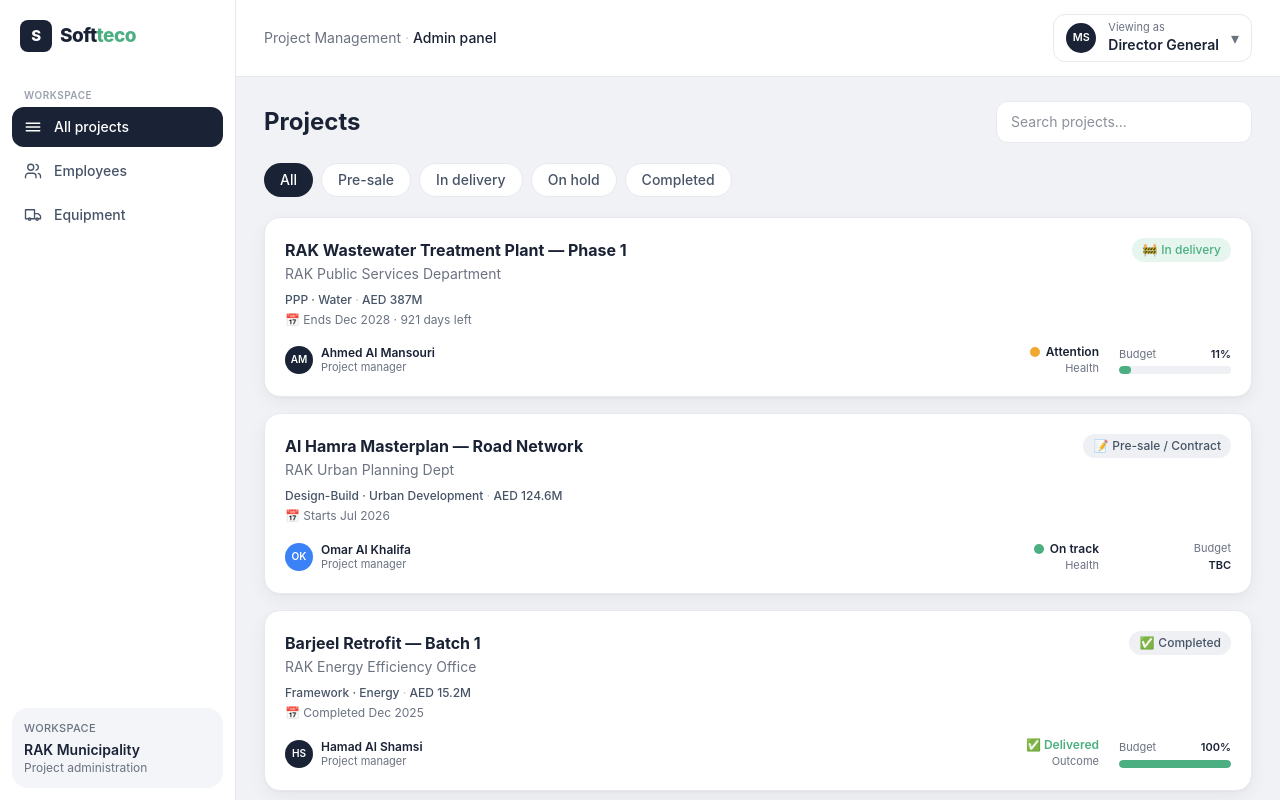
Scenario: projects list › filtering by status narrows the list
Click the button "Completed" at x=678, y=180, box [625, 163, 732, 197]
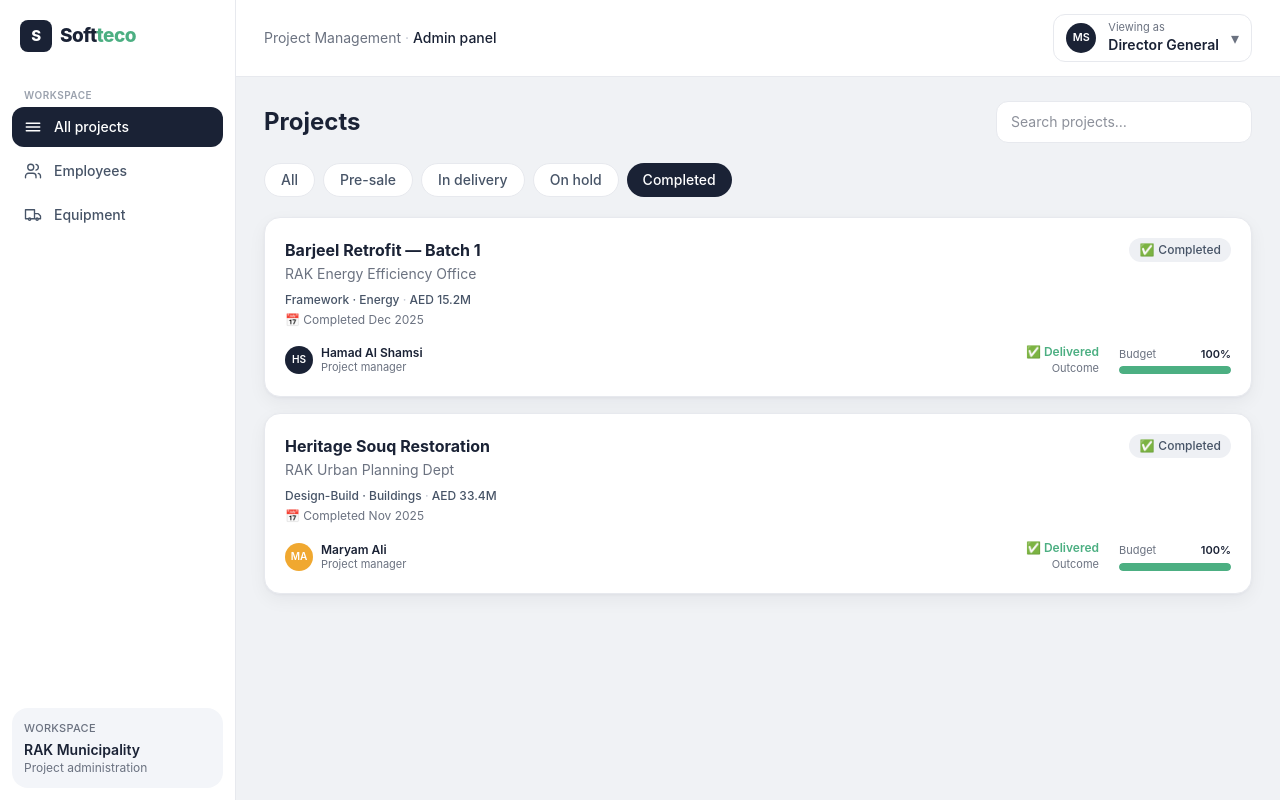
Expected: the heading "Barjeel Retrofit — Batch 1" is shown, [285, 238, 481, 262]
Now the heading "RAK Wastewater Treatment Plant" is gone
